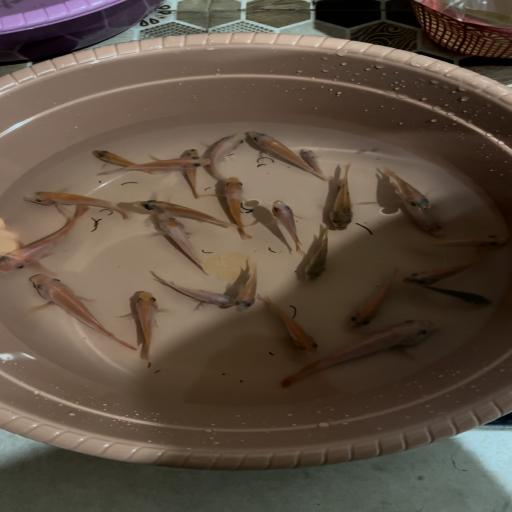nila: (276, 316, 434, 390), (23, 268, 139, 354), (0, 203, 96, 273), (239, 126, 328, 180), (345, 268, 408, 331), (21, 184, 131, 220), (151, 212, 213, 274), (260, 295, 328, 350), (124, 287, 172, 360), (151, 271, 234, 312), (136, 197, 238, 230), (318, 162, 364, 231), (260, 200, 318, 254), (216, 176, 262, 240), (292, 228, 342, 283), (99, 156, 214, 178), (382, 168, 438, 212), (228, 255, 269, 315), (200, 131, 250, 180), (399, 260, 481, 286), (419, 231, 512, 252), (394, 204, 448, 240), (418, 286, 498, 310), (174, 145, 209, 198), (86, 148, 148, 174), (296, 144, 327, 180)
